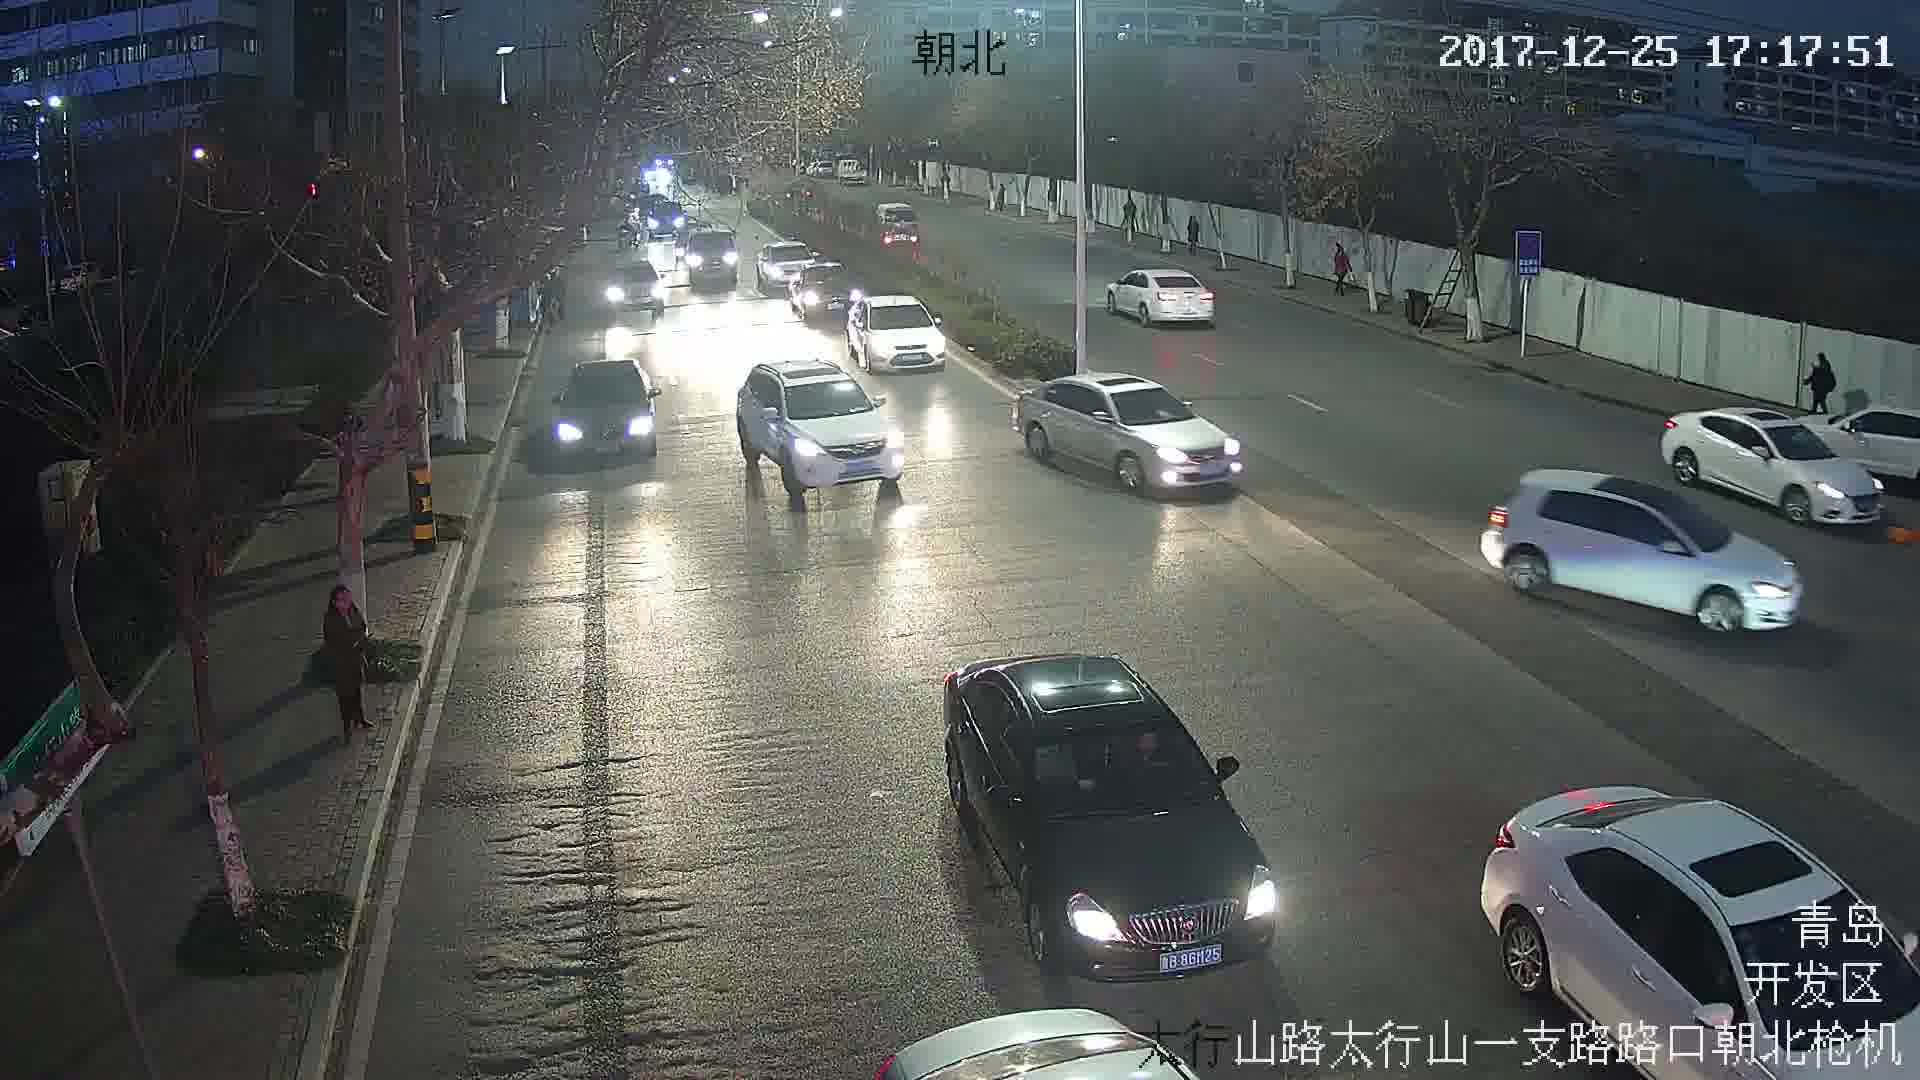car: (943, 656, 1278, 978), (1478, 466, 1809, 630), (1017, 373, 1241, 496), (734, 356, 909, 496), (557, 360, 663, 464), (848, 292, 950, 374), (1105, 269, 1216, 325), (756, 237, 817, 289), (606, 270, 664, 324), (687, 231, 738, 285), (873, 200, 921, 248)
person: (314, 585, 375, 737), (1806, 350, 1839, 412), (1332, 242, 1357, 295)
